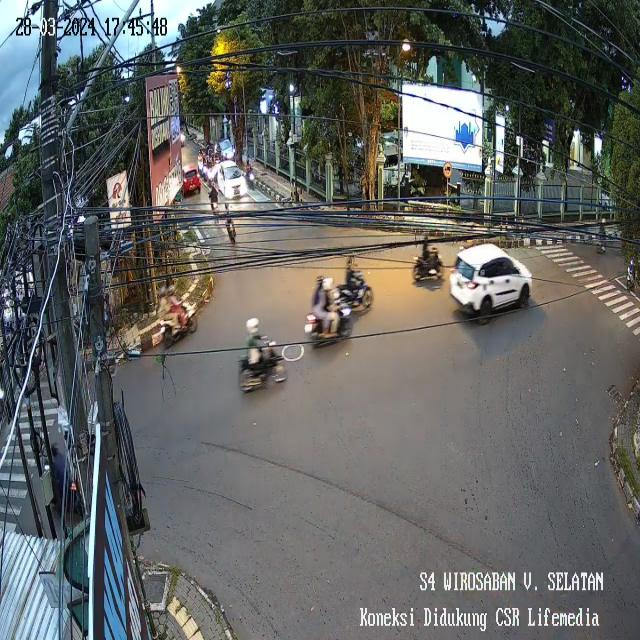car: (448, 240, 534, 328), (215, 162, 252, 201), (177, 164, 204, 198), (218, 130, 240, 162)
motorcycle: (236, 333, 288, 400), (304, 296, 357, 355), (334, 260, 374, 322), (159, 292, 199, 353), (411, 246, 445, 290), (592, 216, 610, 261), (225, 208, 239, 247), (209, 186, 222, 228)
